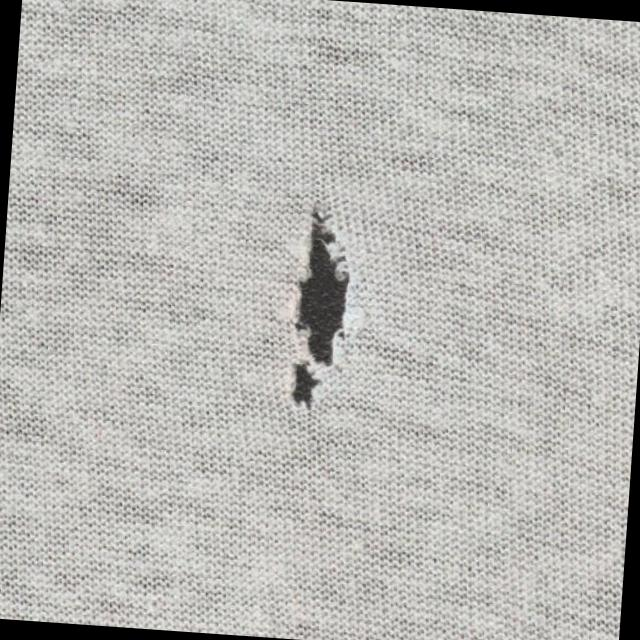hole: (280, 198, 364, 420)
